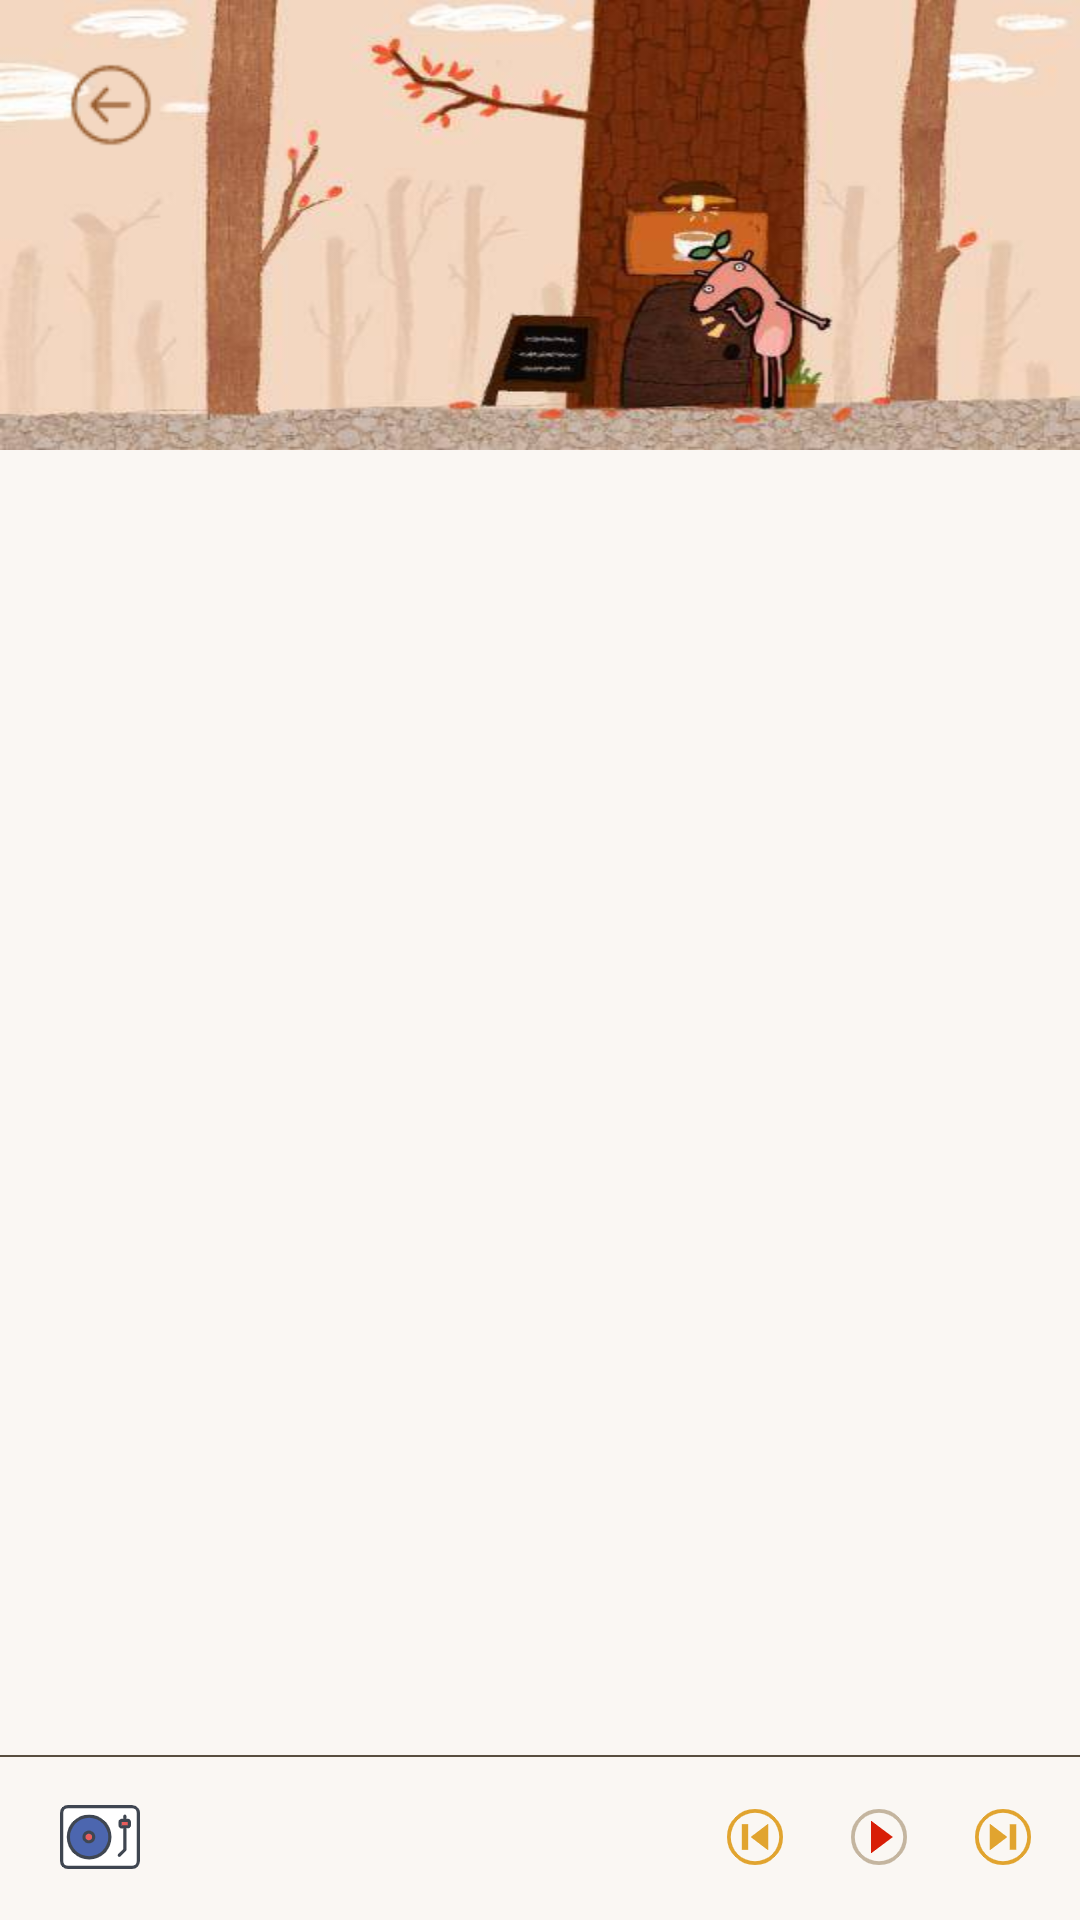

Where to tap for icons on this 1080 x 1920 app screen, as (x,y):
music iv: (100,1837)
music iv last: (755,1837)
music iv next: (1003,1837)
music iv play: (879,1837)
